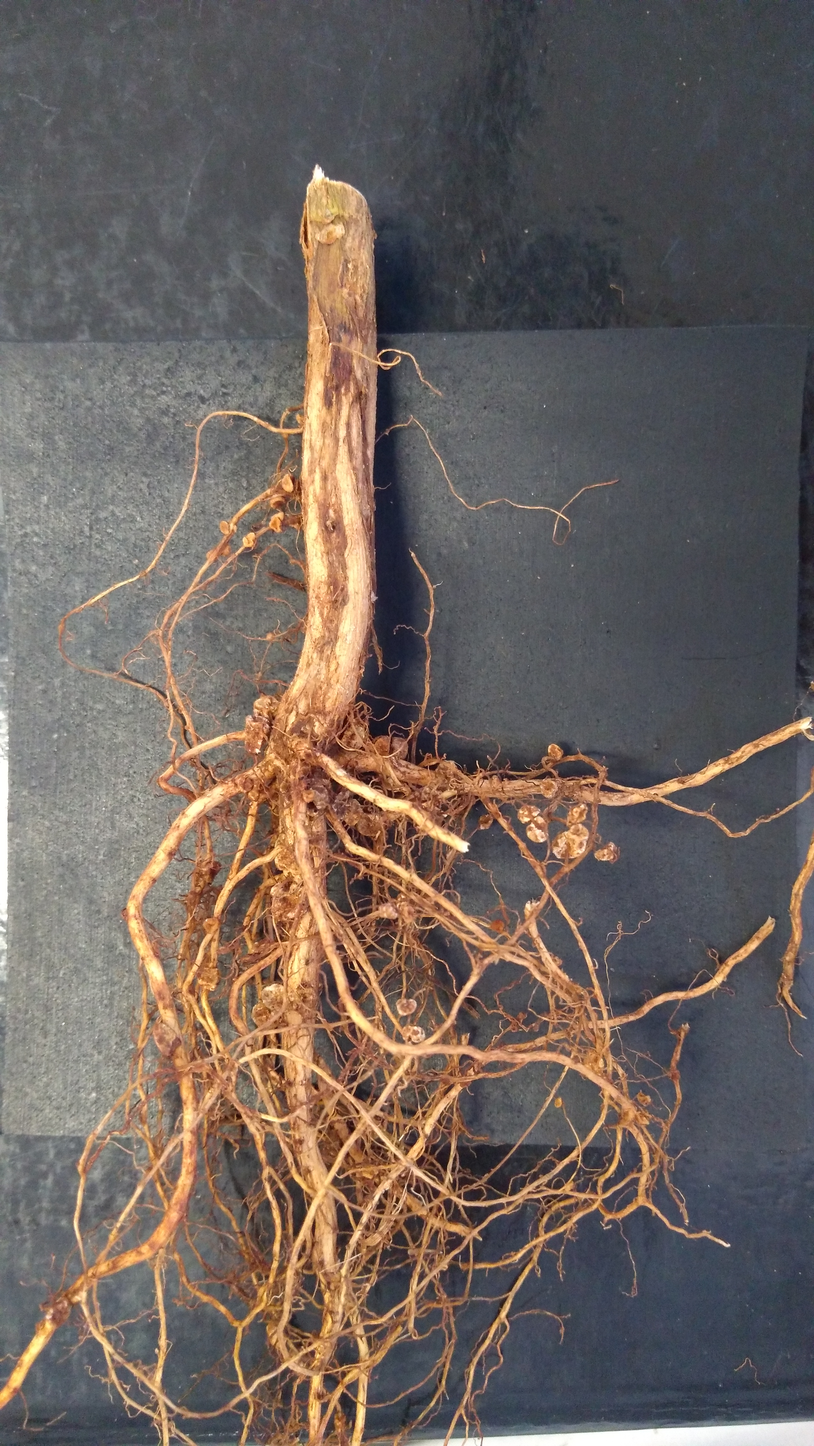nodule: (548, 821, 590, 863), (270, 880, 305, 926), (151, 1020, 184, 1060), (241, 712, 269, 756), (274, 832, 298, 870), (192, 964, 221, 994), (257, 981, 285, 1012), (592, 839, 624, 866), (339, 722, 367, 752), (354, 810, 384, 838), (310, 779, 335, 812), (524, 814, 550, 844), (251, 694, 281, 720), (341, 797, 362, 829), (565, 800, 590, 825), (251, 1001, 273, 1029), (537, 775, 559, 803), (517, 801, 542, 825), (396, 996, 419, 1018), (390, 735, 409, 761), (377, 900, 399, 921), (371, 734, 392, 756), (201, 916, 222, 937), (267, 511, 286, 534), (407, 1023, 426, 1045), (545, 743, 564, 763), (331, 1411, 348, 1433), (279, 472, 295, 495), (478, 812, 495, 831), (267, 494, 287, 510), (192, 903, 208, 922), (242, 529, 257, 548), (321, 1270, 342, 1283), (635, 1091, 651, 1107), (299, 789, 315, 804), (637, 1108, 650, 1126), (217, 519, 229, 536), (209, 858, 222, 871), (222, 545, 234, 557), (397, 892, 408, 905), (204, 548, 215, 560), (265, 631, 276, 642), (329, 1282, 342, 1291), (553, 1096, 562, 1108)
